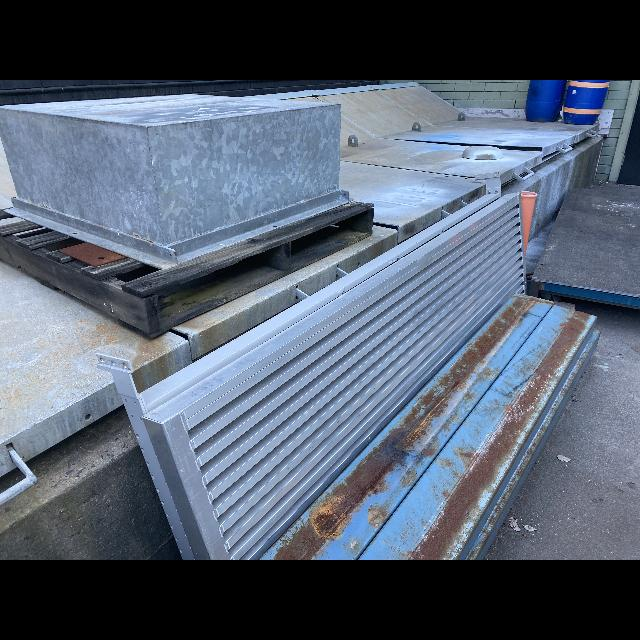Aluminium: (97, 174, 501, 560), (142, 193, 527, 560)
Ferrous Metal: (254, 294, 601, 560)
Galvanized Steel: (0, 93, 352, 271)
